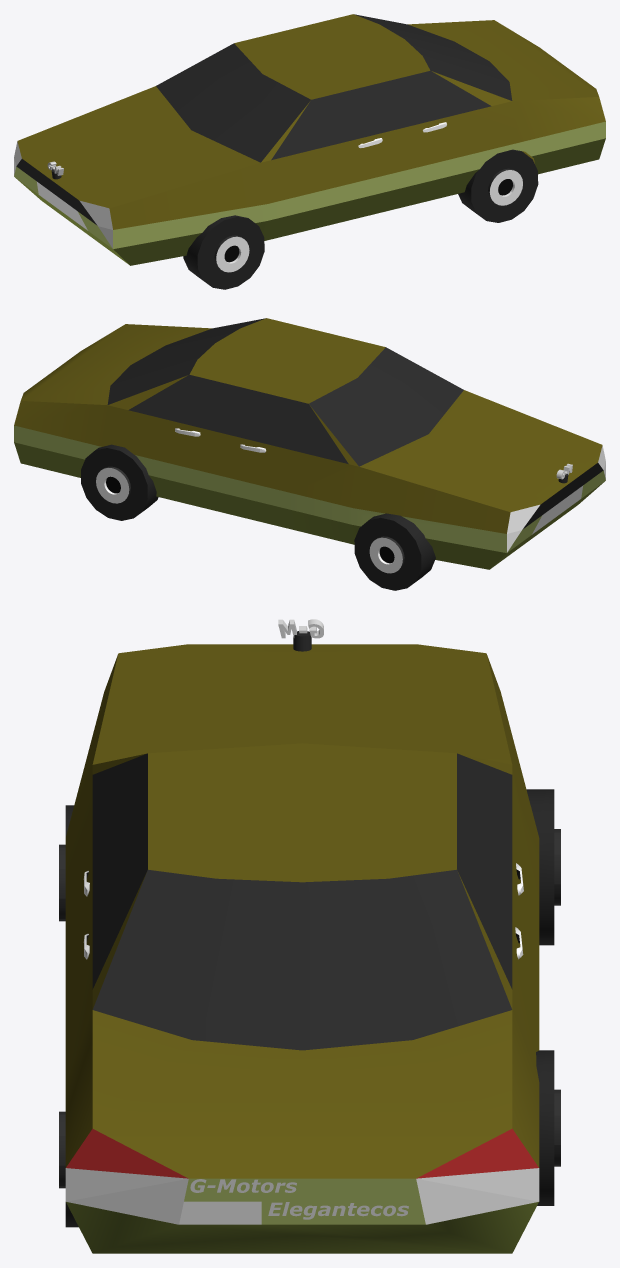
The model's file is Taxi.fbx.
3 renders of one model, top to bottom at view 1: azimuth 30°, elevation 25°; view 2: azimuth 150°, elevation 25°; view 3: azimuth 270°, elevation 25°, orthographic. The views are drawn at different scales.
Parts seen in each view (by area): view 1: Layer0_001, Group_001, Group_003; view 2: Layer0_001, Group_005, Group_007; view 3: Layer0_001, Group_005, Group_007, Elegantecos_001.
Part boxes in pixels (left/top/right/bottom): Layer0_001: left=14, top=14, right=605, bottom=265; Group_001: left=183, top=215, right=264, bottom=289; Group_003: left=458, top=149, right=538, bottom=222; Layer0_001: left=14, top=318, right=605, bottom=569; Group_005: left=354, top=513, right=435, bottom=590; Group_007: left=81, top=444, right=158, bottom=520; Layer0_001: left=65, top=631, right=539, bottom=1253; Group_005: left=526, top=789, right=560, bottom=945; Group_007: left=536, top=1050, right=560, bottom=1205; Elegantecos_001: left=268, top=1202, right=408, bottom=1219.
Bounding box in the file's own units: 205 × 56.54 × 86.37.
